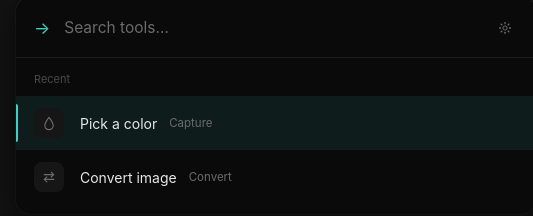
Scenario: Escape steps back from forms and normal results
Click the text "Convert image".
click(128, 177)  # box [80,168,177,186]
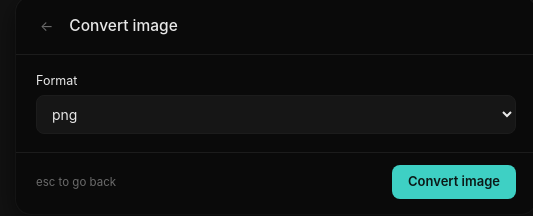
Press Escape in the heading "Convert image", box [69,16,178,35]
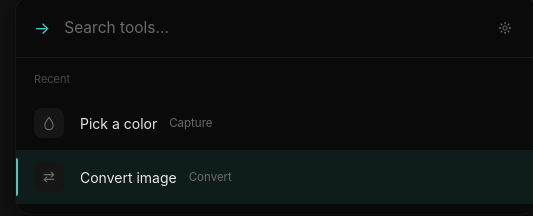
Check: the search field labelled "Search tools" is shown, box [62,16,480,40]
Click the text "Pick a color".
click(119, 123)  # box [80,114,157,132]
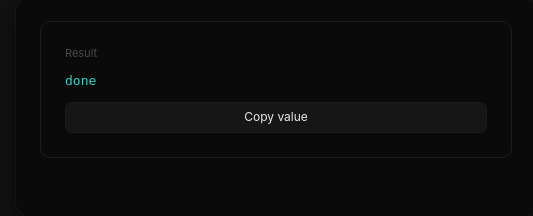
Check: the text "done" is shown, box [65,73,96,88]
Press Escape
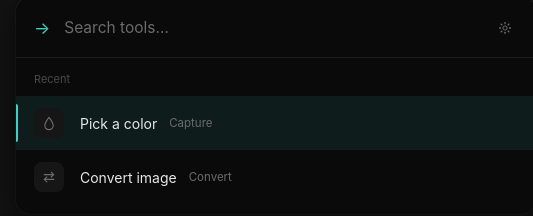
Check: the search field labelled "Search tools" is shown, box [62,16,480,40]
